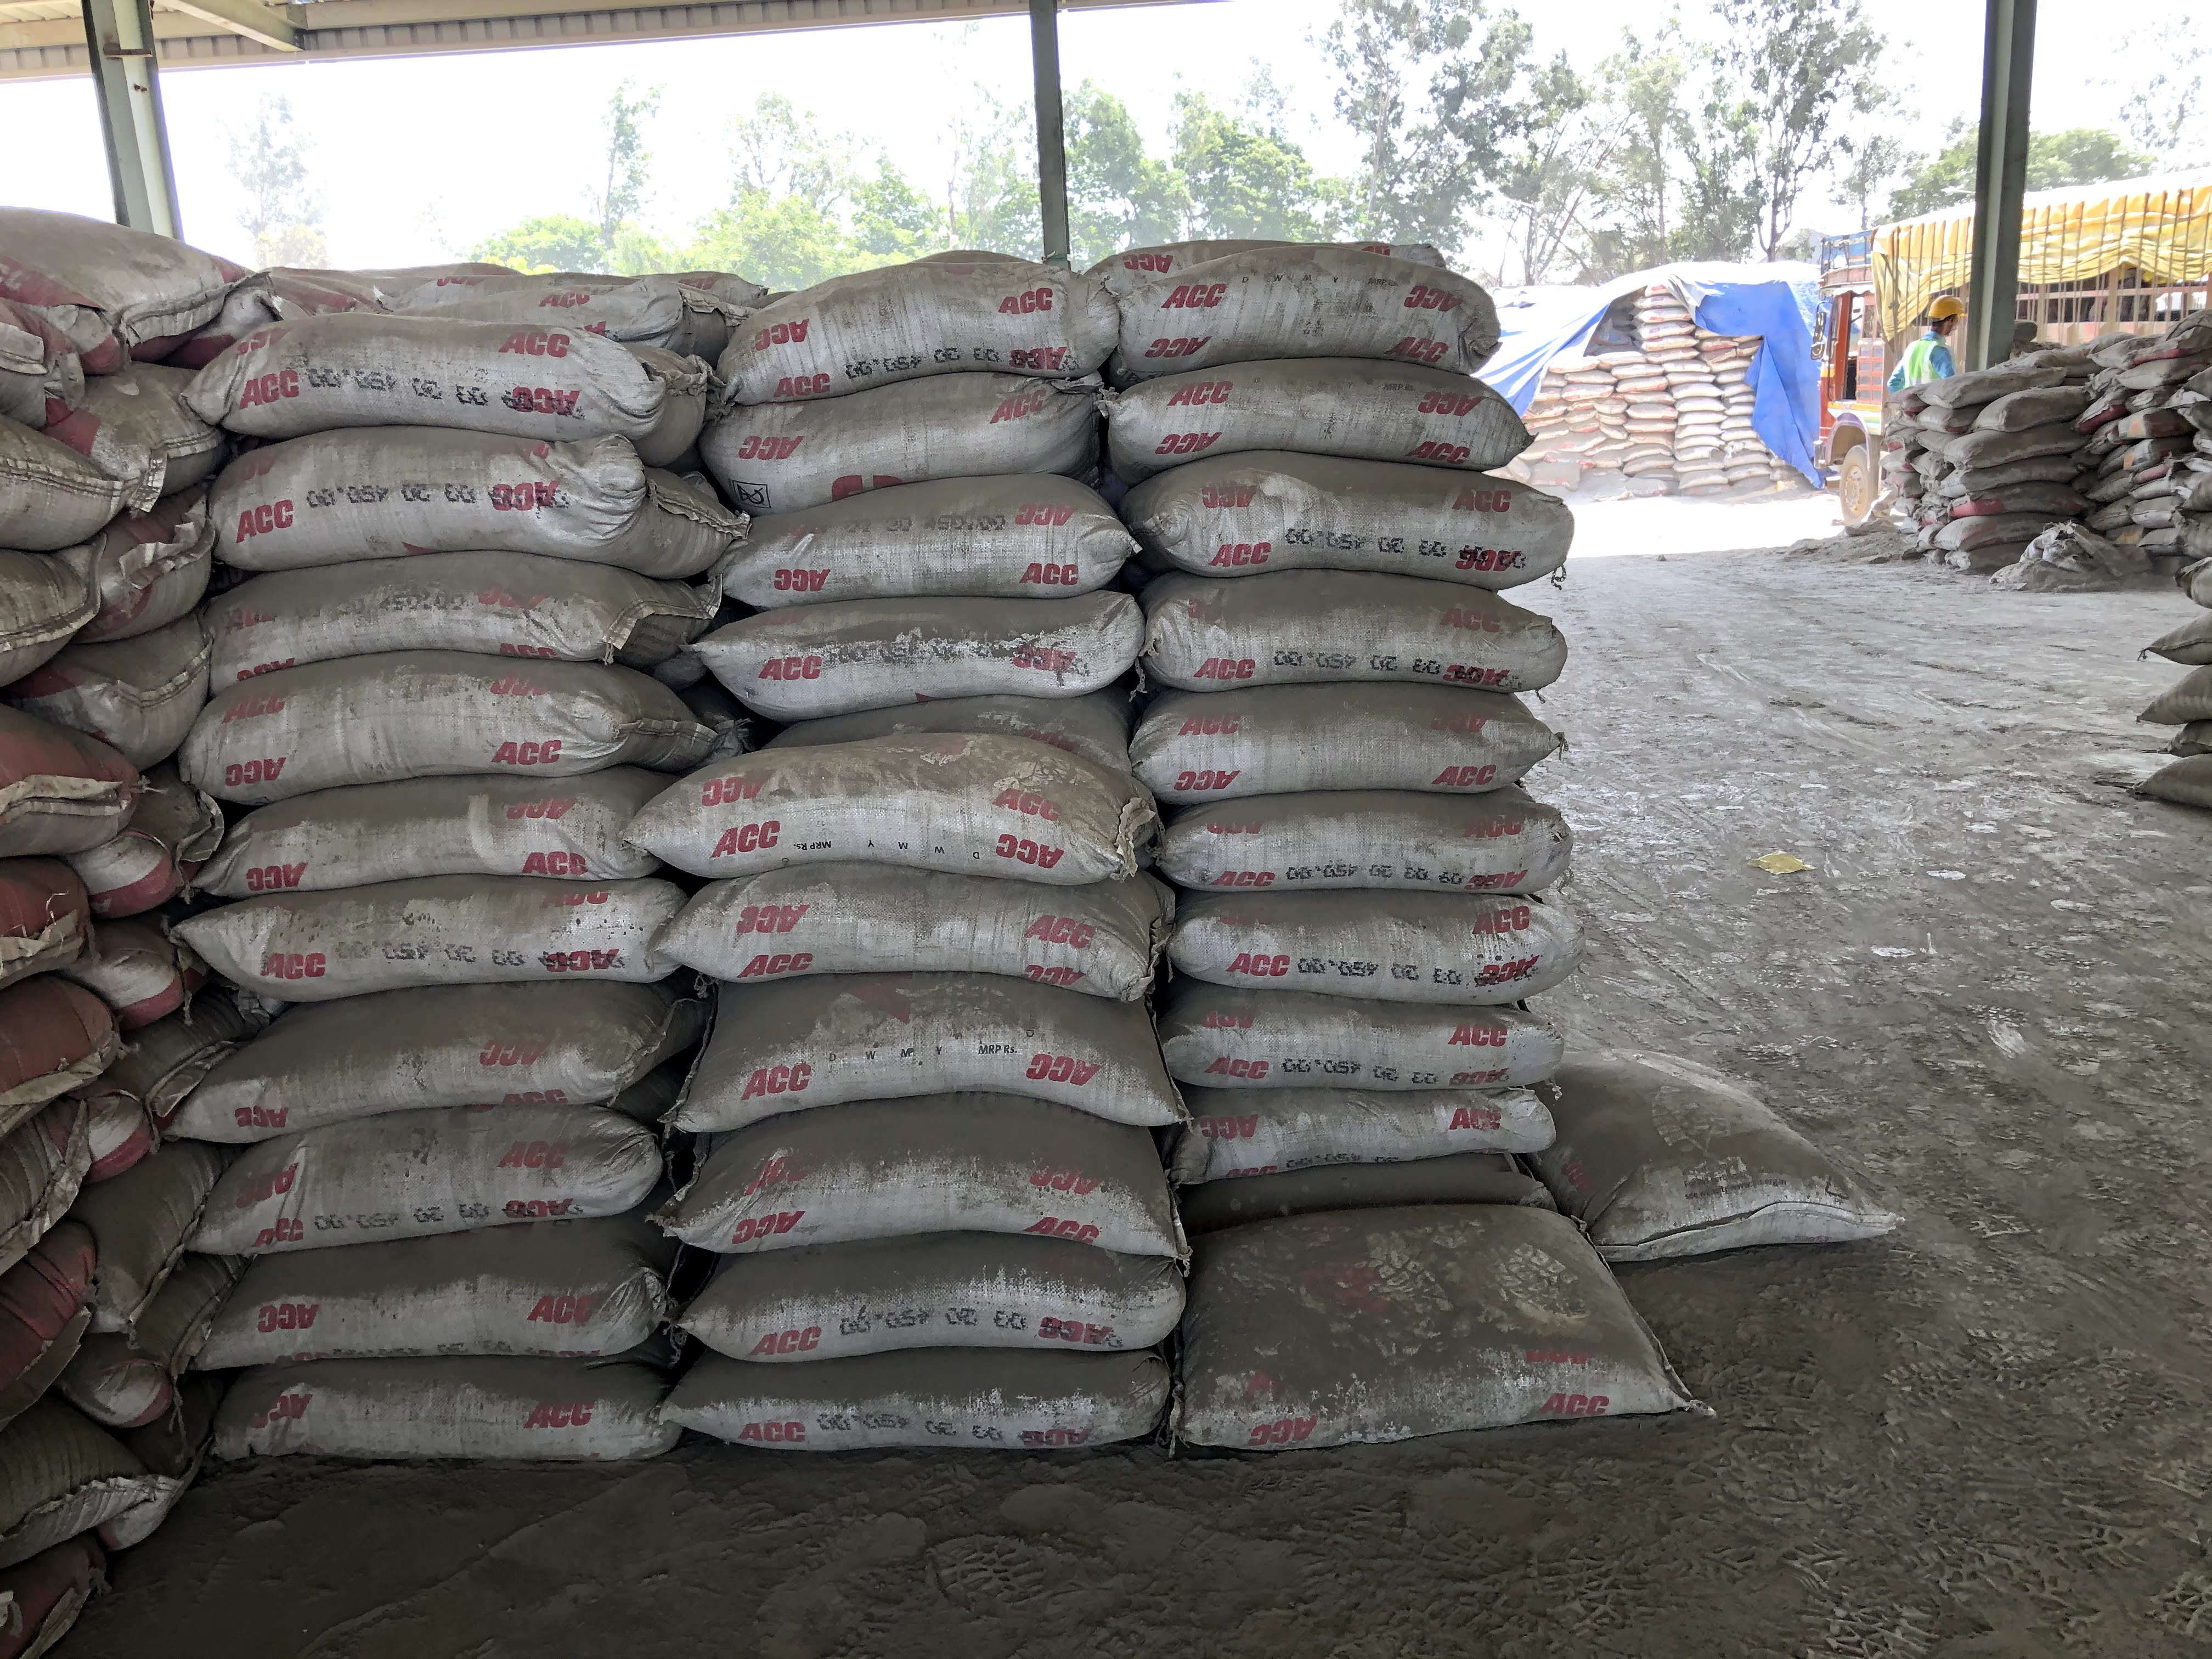cement bag: (1170, 1204, 1698, 1450), (683, 978, 1193, 1140), (625, 735, 1160, 887), (181, 652, 679, 791), (653, 1126, 1190, 1255), (1533, 1044, 1905, 1229), (653, 870, 1169, 1002), (188, 312, 685, 439), (1129, 451, 1580, 589), (176, 1004, 644, 1136), (683, 1237, 1191, 1358), (209, 423, 643, 563), (1092, 240, 1510, 383), (174, 878, 681, 993), (204, 1237, 672, 1361), (190, 1114, 657, 1237), (1137, 565, 1576, 695), (691, 589, 1146, 711), (709, 472, 1141, 599), (709, 369, 1097, 511), (190, 549, 639, 669), (714, 254, 1122, 383), (195, 784, 658, 892), (212, 1359, 688, 1464), (1163, 784, 1585, 899), (1169, 890, 1594, 1002), (665, 1354, 1177, 1445), (1109, 368, 1541, 474), (1123, 683, 1569, 786), (1151, 988, 1562, 1087), (1169, 1086, 1561, 1175), (1165, 1098, 1557, 1175)
